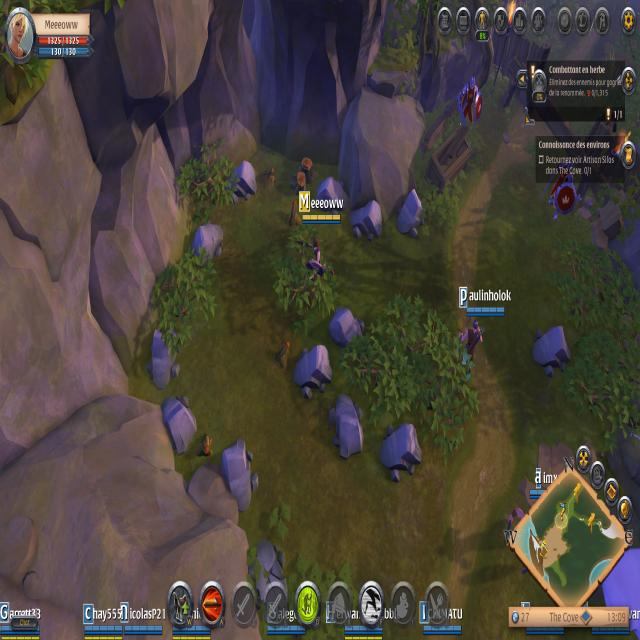stone: (219, 438, 262, 516), (327, 386, 366, 466), (380, 416, 424, 484), (529, 316, 574, 382), (158, 392, 199, 460), (144, 324, 182, 391), (292, 342, 333, 402), (328, 300, 367, 356), (394, 185, 428, 242), (190, 217, 225, 269), (350, 197, 385, 244), (227, 156, 258, 205), (314, 173, 351, 214)
